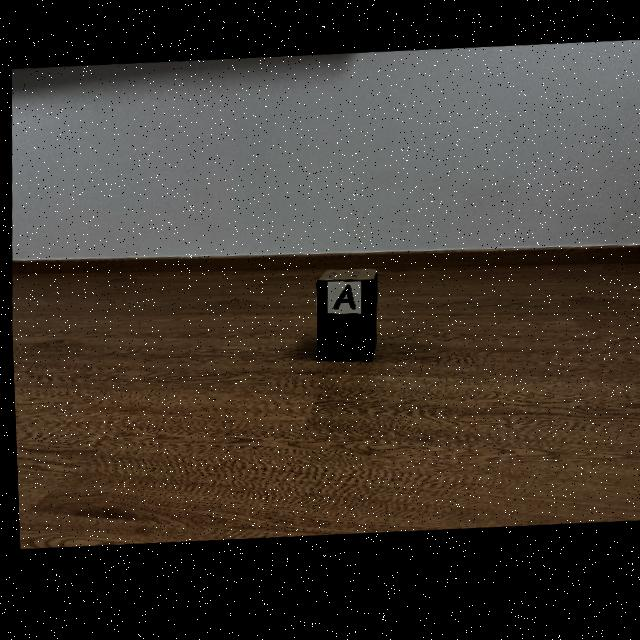A: (330, 290, 353, 315)
